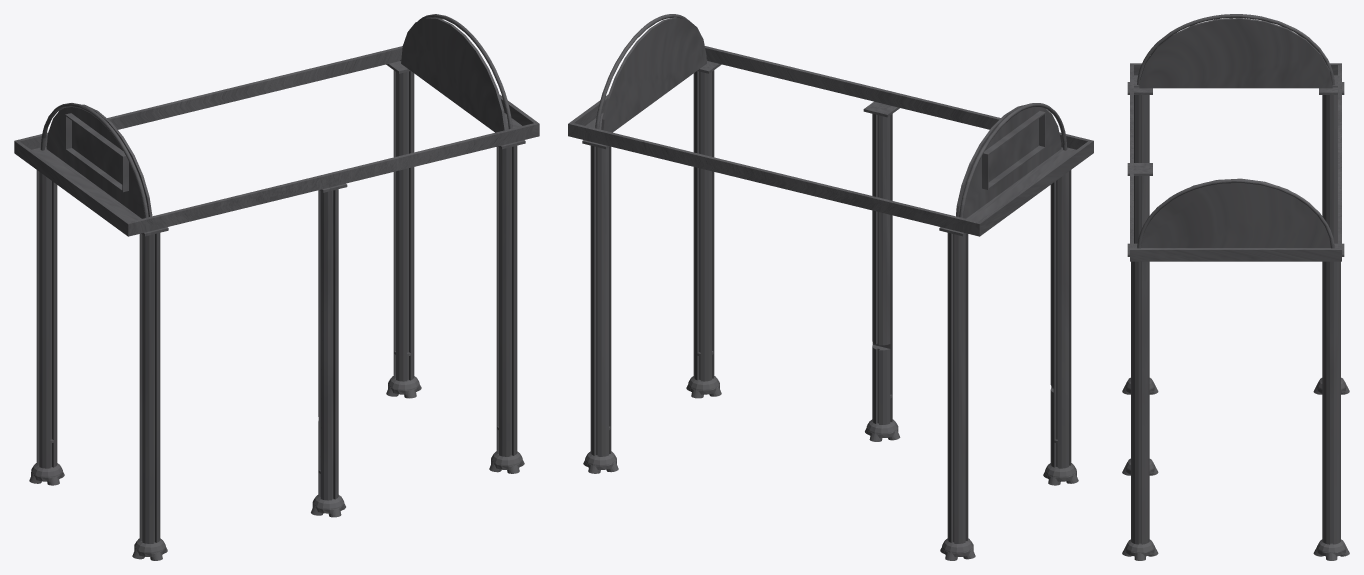
3 renders of one model, left to right at view 1: azimuth 30°, elevation 25°; view 2: azimuth 150°, elevation 25°; view 3: azimuth 270°, elevation 25°, orthographic. The views are drawn at different scales.
Parts seen in each view (by area): view 1: base_link; view 2: base_link; view 3: base_link.
Part boxes in pixels (x1=…): base_link: x1=14, y1=14, x2=539, y2=560; base_link: x1=568, y1=14, x2=1093, y2=560; base_link: x1=1122, y1=14, x2=1349, y2=560.
Size of the model in its own units: 3.46 by 1.78 by 3.26.
1 material, 1 textured.
